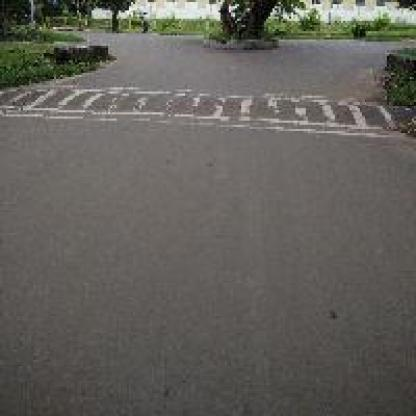Speed Bump: (0, 83, 389, 137)
